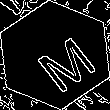M_NW: (19, 21, 91, 89)
